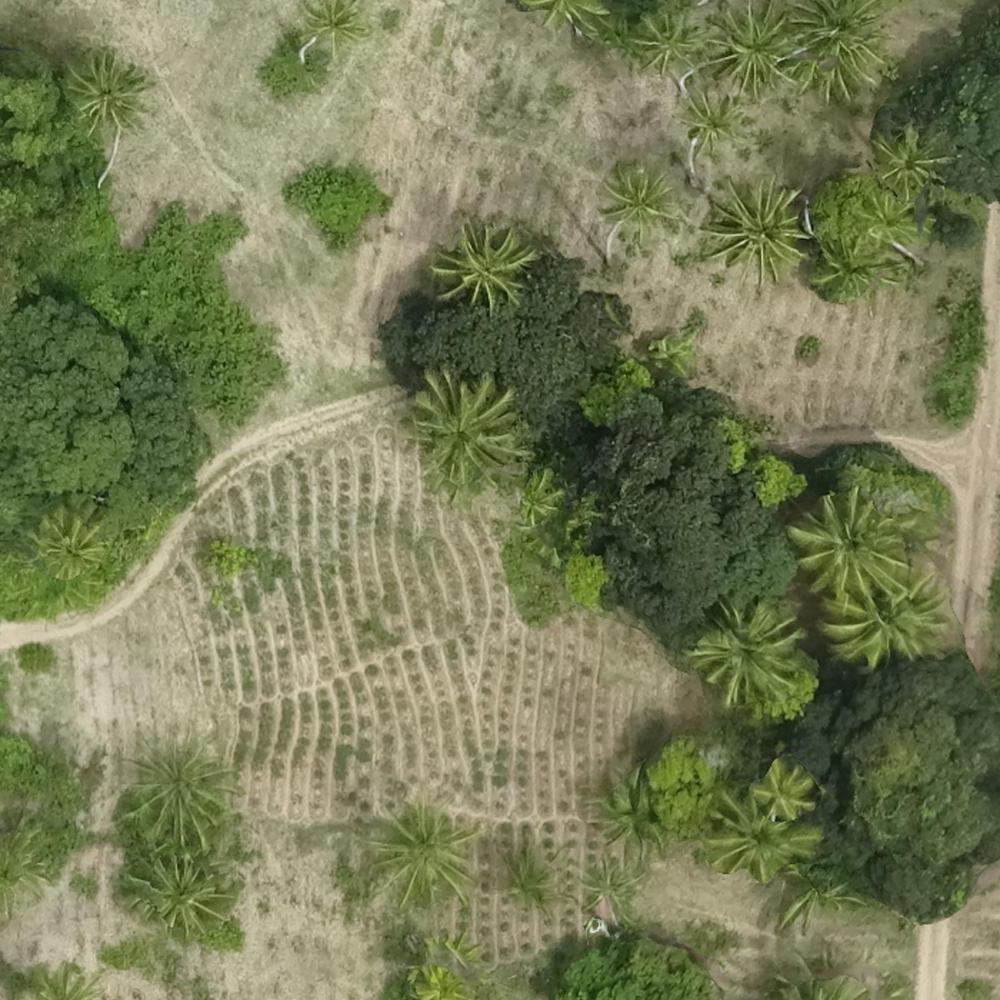Palm: (405, 373, 524, 483), (125, 732, 232, 845), (695, 602, 799, 711), (794, 490, 899, 597), (366, 797, 474, 899), (783, 1, 892, 93), (709, 790, 819, 878), (827, 579, 941, 662), (711, 175, 808, 272), (705, 4, 802, 99), (128, 859, 232, 945), (433, 222, 529, 300), (63, 48, 141, 121), (603, 163, 680, 230), (33, 508, 101, 581), (624, 10, 699, 74), (868, 132, 941, 197), (853, 191, 919, 255), (751, 759, 815, 822), (303, 1, 368, 58), (682, 89, 745, 146)
